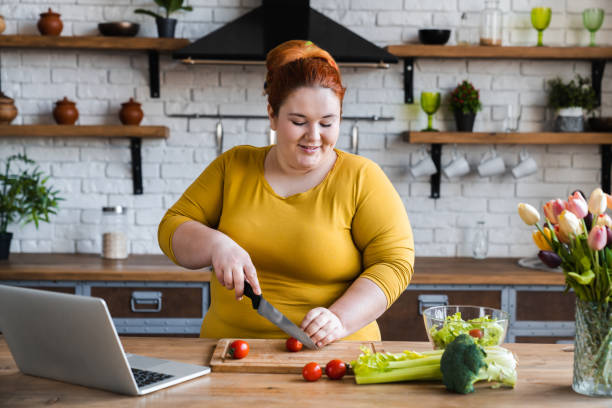without mask: (264, 76, 344, 169)
